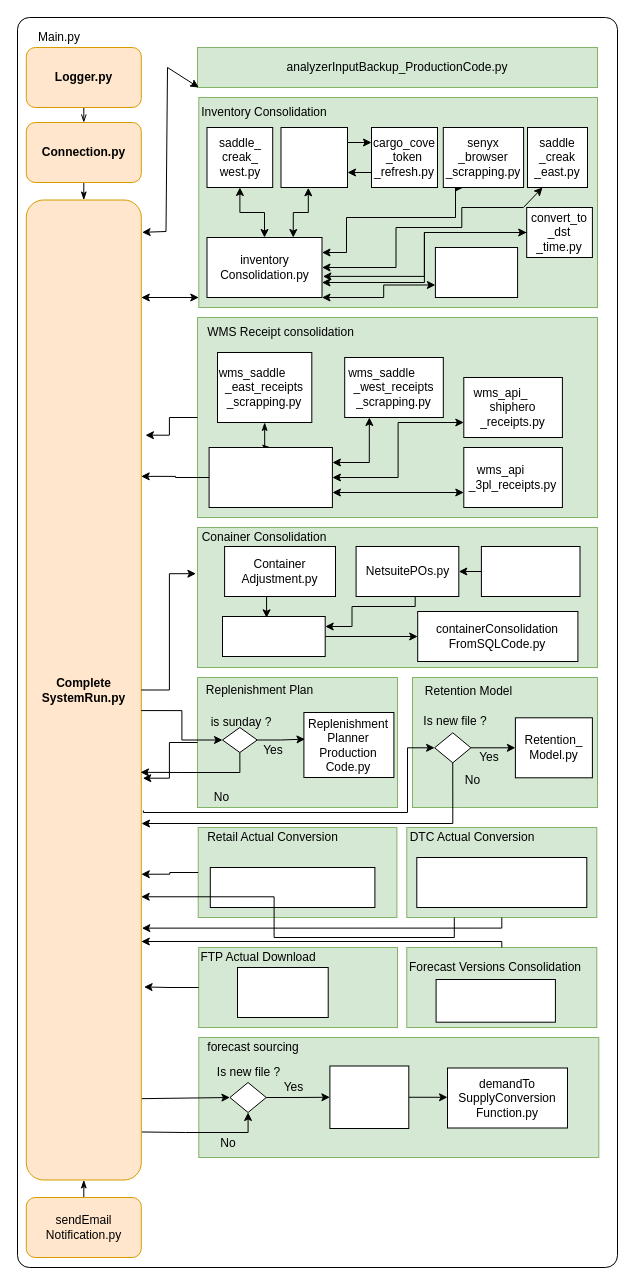
This 635x1285 diagram has some shape labels left out. The centre of each missing label's shape, as x and y in pixels:
"api_ inventory.py" goes at point (314, 157).
"DTCActual ConversionProductionCode.py" goes at point (501, 882).
"Expeditor EmailReader.py" goes at point (530, 571).
"Forecast_ Sourcing.py" goes at point (369, 1096).
"ForecastVersions ProductionCode.py" goes at point (495, 1000).
"ftp_actual _download.py" goes at point (282, 992).
"Netsuite Consolidate.py" goes at point (273, 636).
"RetailActual ConversionProduction.py" goes at point (292, 887).
"send _email _notification.py" goes at point (476, 272).
"wms _receipt _consolidation.py" goes at point (270, 477).
